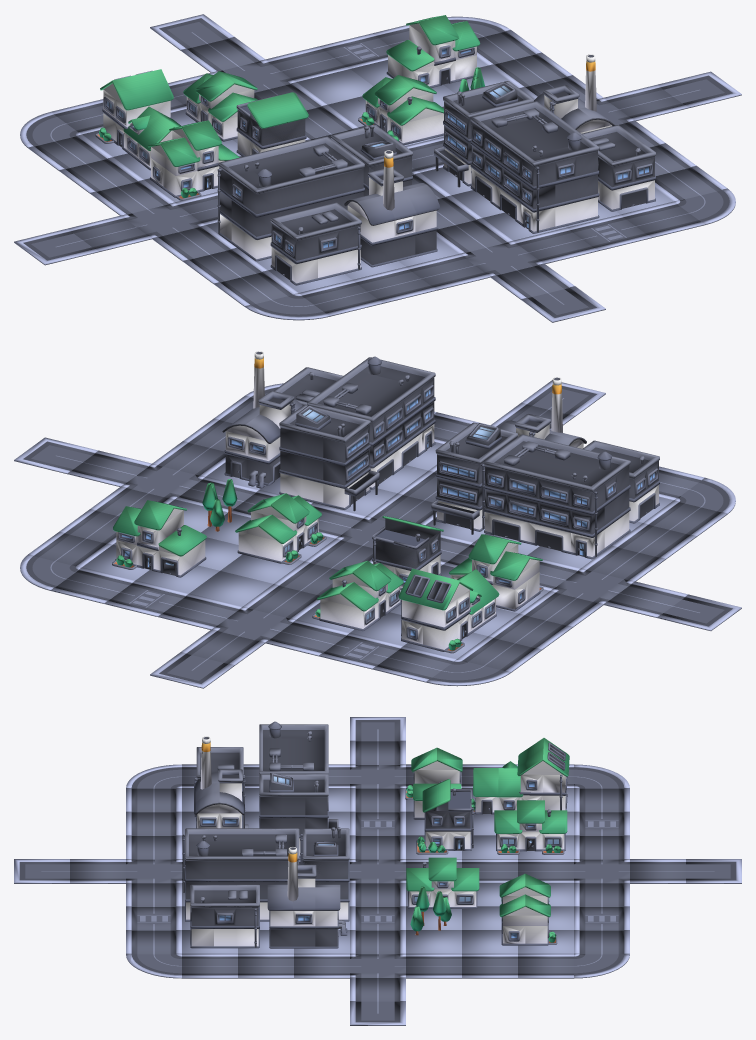
File: city_01.glb
3 renders of one model, top to bottom at view 1: azimuth 30°, elevation 25°; view 2: azimuth 150°, elevation 25°; view 3: azimuth 270°, elevation 25°, orthographic. The views are drawn at different scales.
Parts seen in each view (by area): view 1: building-a.001, building-a, building-n, building-o, building-type-b, building-type-c.001, building-type-c, building-o.001, building-type-a.001, building-d.001, building-type-l, building-type-a (+56 smaller); view 2: building-a, building-a.001, building-d.001, building-type-b, building-type-c.001, building-d, building-n.001, building-type-a.001, building-type-a, building-type-c, building-type-l, building-o (+59 smaller); view 3: building-a.001, building-n.001, building-type-b, building-o.001, building-d, building-a, building-type-l, building-type-c.001, building-type-a, building-n, building-d.001, building-type-a.001 (+59 smaller).
Part boxes in pixels (x1=…): building-a.001: x1=470, y1=101, x2=599, y2=233; building-a: x1=217, y1=136, x2=364, y2=261; building-n: x1=344, y1=150, x2=439, y2=267; building-o: x1=270, y1=202, x2=361, y2=285; building-type-b: x1=95, y1=69, x2=180, y2=170; building-type-c.001: x1=386, y1=15, x2=480, y2=87; building-type-c: x1=148, y1=120, x2=239, y2=200; building-o.001: x1=581, y1=125, x2=655, y2=211; building-type-a.001: x1=358, y1=75, x2=443, y2=145; building-d.001: x1=434, y1=81, x2=533, y2=187; building-type-l: x1=236, y1=92, x2=308, y2=156; building-type-a: x1=183, y1=71, x2=257, y2=141; building-a: x1=484, y1=434, x2=630, y2=559; building-a.001: x1=307, y1=356, x2=435, y2=489; building-d.001: x1=279, y1=404, x2=379, y2=511; building-type-b: x1=398, y1=568, x2=499, y2=653; building-type-c.001: x1=112, y1=500, x2=206, y2=577; building-d: x1=431, y1=422, x2=517, y2=534; building-n.001: x1=222, y1=351, x2=302, y2=488; building-type-a.001: x1=235, y1=493, x2=326, y2=564; building-type-a: x1=312, y1=560, x2=403, y2=631; building-type-c: x1=449, y1=534, x2=543, y2=611; building-type-l: x1=372, y1=516, x2=443, y2=589; building-o: x1=583, y1=440, x2=659, y2=523; building-a.001: x1=182, y1=828, x2=299, y2=921; building-n.001: x1=267, y1=846, x2=347, y2=948; building-type-b: x1=471, y1=738, x2=569, y2=814; building-o.001: x1=190, y1=884, x2=259, y2=948; building-d: x1=259, y1=773, x2=338, y2=857; building-a: x1=259, y1=721, x2=328, y2=774; building-type-l: x1=416, y1=779, x2=473, y2=854; building-type-c.001: x1=499, y1=873, x2=557, y2=945; building-type-a: x1=494, y1=800, x2=567, y2=854; building-n: x1=194, y1=736, x2=248, y2=828; building-d.001: x1=300, y1=827, x2=349, y2=921; building-type-a.001: x1=406, y1=857, x2=479, y2=908.
Bounding box in the file's own units: 13 × 1.9 × 13.
Materials: 19 (19 with a texture image).
